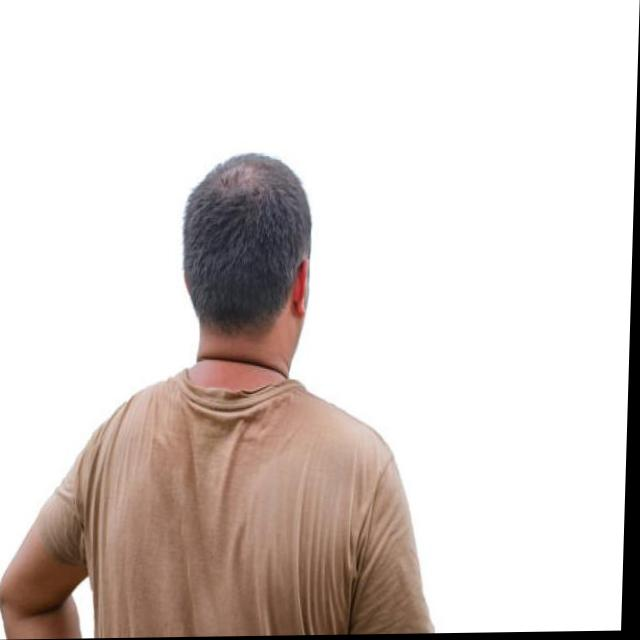no helmet: (172, 145, 328, 394)
